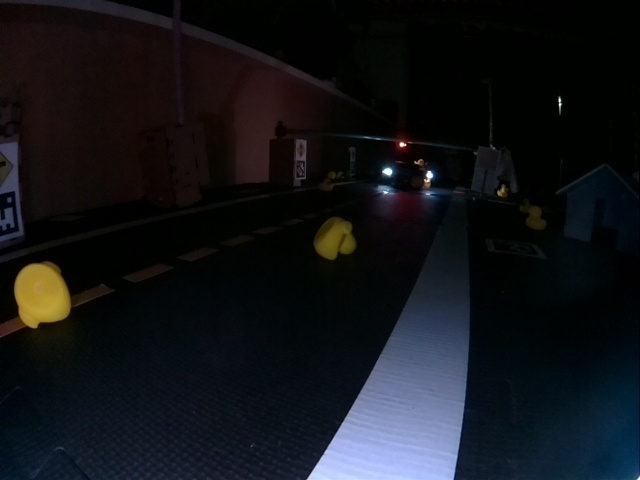Duckie: (15, 263, 71, 327), (313, 217, 355, 260), (527, 207, 547, 230), (319, 179, 333, 191), (497, 189, 507, 197)
Duckiebot: (381, 161, 433, 189)
Intersection sign: (1, 144, 19, 189)
QR code: (486, 238, 545, 259), (0, 193, 24, 241), (296, 161, 306, 178), (349, 163, 356, 175)
Signal sign: (296, 143, 306, 158)
Traffic light: (397, 140, 407, 149)
